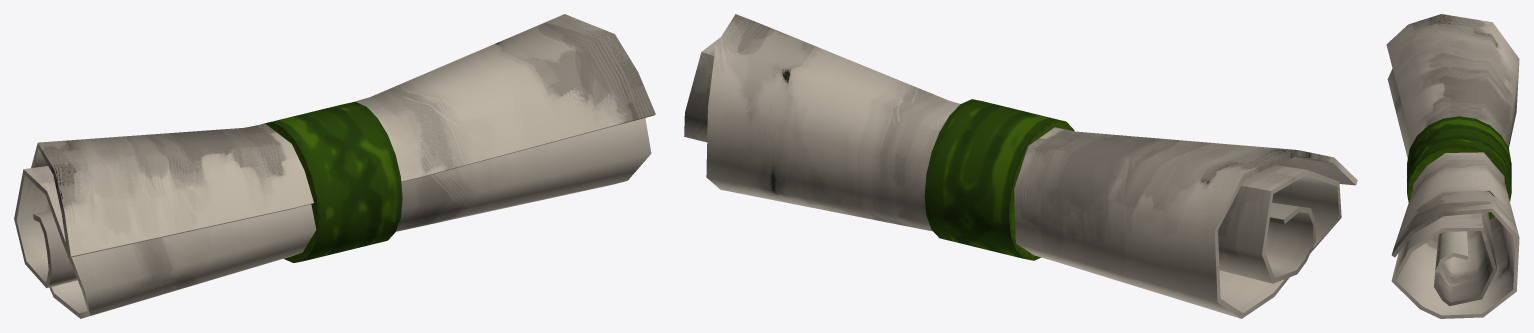
Rendered from Scroll_1.gltf.
The picture shows the model from 3 angles, left to right: view 1: azimuth 30°, elevation 25°; view 2: azimuth 150°, elevation 25°; view 3: azimuth 270°, elevation 25°; orthographic projection. The views are drawn at different scales.
Parts seen in each view (by area): view 1: Scroll_1; view 2: Scroll_1; view 3: Scroll_1.
Boxes of the visible parts, x1,y1,x2,y2 form: Scroll_1: (14,14,655,318); Scroll_1: (684,14,1357,318); Scroll_1: (1386,14,1519,318).
Size of the model in its own units: 0.2439 by 0.0588 by 0.0631.
2 materials, 2 textured.
